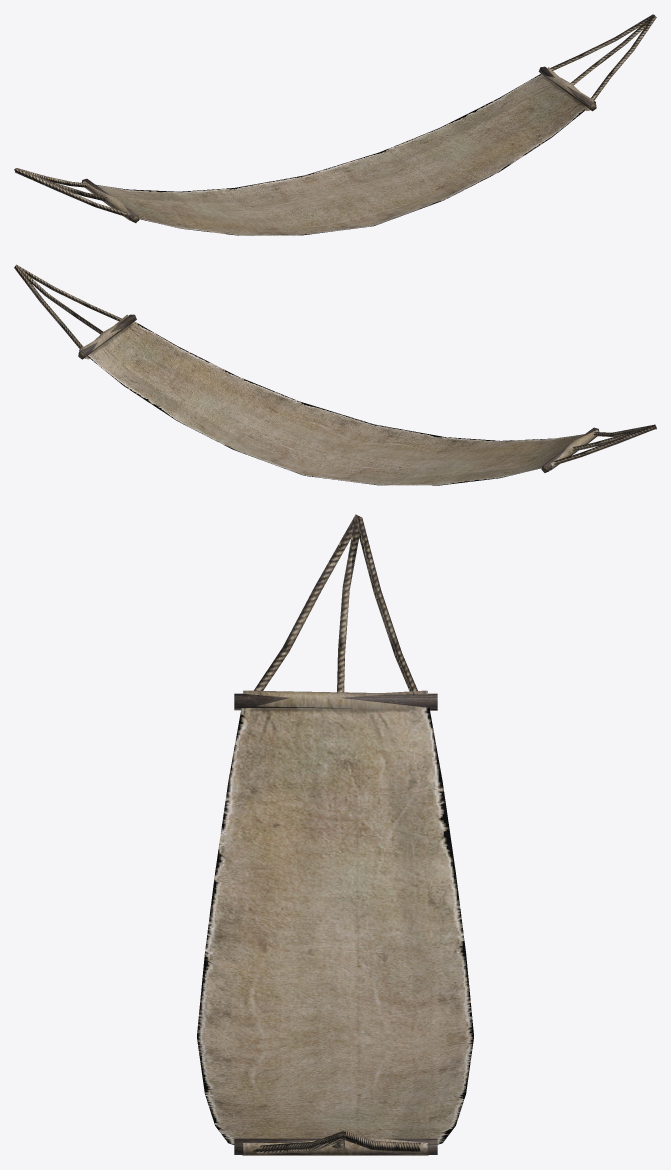
Rendered from Tent.fbx.
The picture shows the model from 3 angles, top to bottom: view 1: azimuth 30°, elevation 25°; view 2: azimuth 150°, elevation 25°; view 3: azimuth 270°, elevation 25°; orthographic projection. The views are drawn at different scales.
Parts seen in each view (by area): view 1: LV_Compagna_Object_OutPillar02_SM_NWCDOR; view 2: LV_Compagna_Object_OutPillar02_SM_NWCDOR; view 3: LV_Compagna_Object_OutPillar02_SM_NWCDOR.
Boxes of the visible parts, x1,y1,x2,y2 form: LV_Compagna_Object_OutPillar02_SM_NWCDOR: (14,14,656,235); LV_Compagna_Object_OutPillar02_SM_NWCDOR: (14,264,656,485); LV_Compagna_Object_OutPillar02_SM_NWCDOR: (197,514,473,1155).
Size of the model in its own units: 1.48 by 0.2489 by 0.2776.
Materials: 1 (1 with a texture image).
